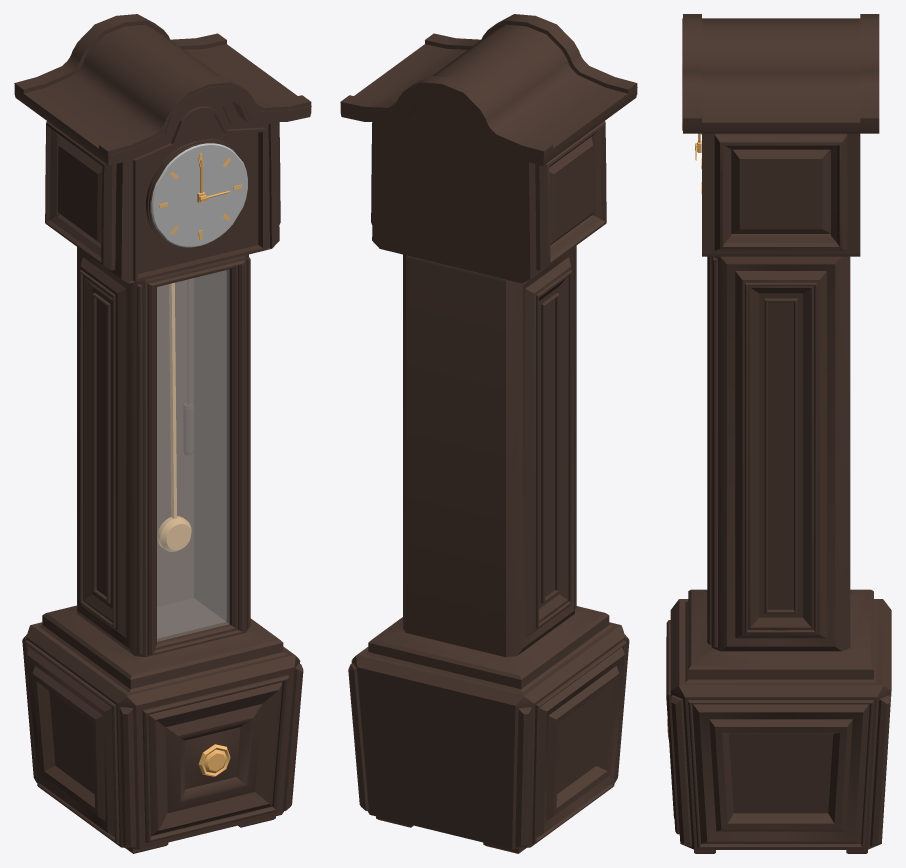
The model's file is chaseki3.fbx.
3 views of the same model, side by side, from view 1: azimuth 30°, elevation 25°; view 2: azimuth 150°, elevation 25°; view 3: azimuth 270°, elevation 25° (orthographic). The views are drawn at different scales.
Parts seen in each view (by area): view 1: Cube.007; view 2: Cube.007; view 3: Cube.007.
Part boxes in pixels (<box>): Cube.007: <box>14,14,311,853</box>; Cube.007: <box>340,14,637,853</box>; Cube.007: <box>666,14,891,853</box>.
Size of the model in its own units: 154 by 548 by 140.
